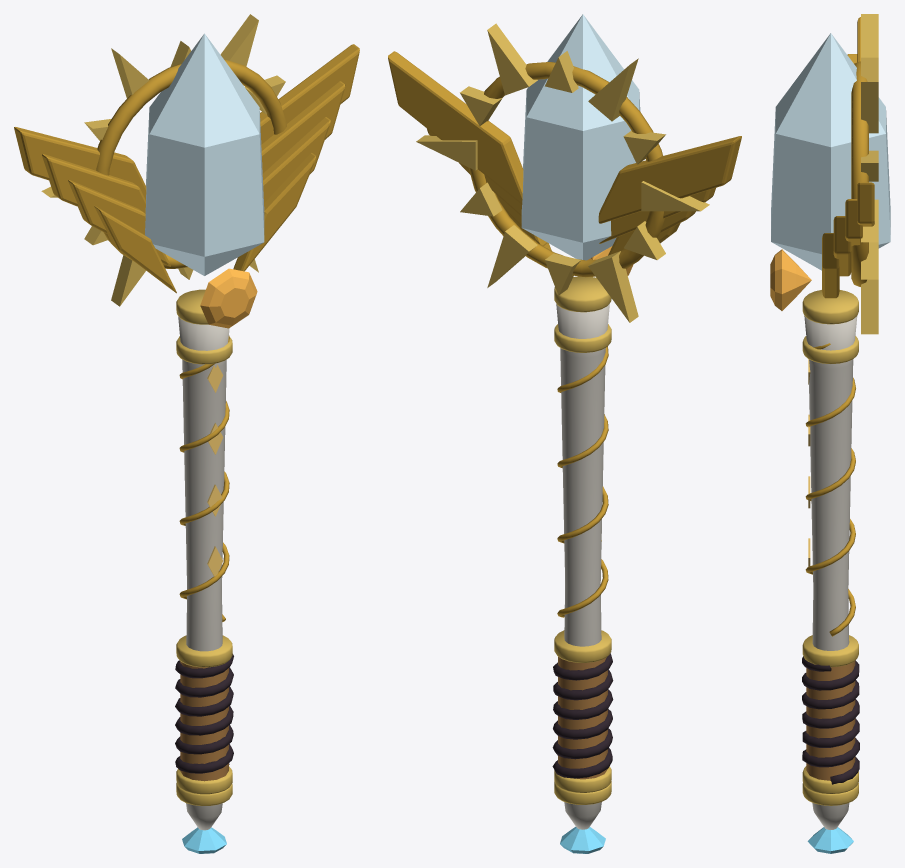
The model's file is mace_dawn.fbx.
3 views of the same model, side by side, from view 1: azimuth 30°, elevation 25°; view 2: azimuth 150°, elevation 25°; view 3: azimuth 270°, elevation 25° (orthographic). The views are drawn at different scales.
Parts seen in each view (by area): view 1: mace_dawn; view 2: mace_dawn; view 3: mace_dawn.
Part boxes in pixels (box(x1,y1,x2,y2)): mace_dawn: box(14, 14, 359, 853); mace_dawn: box(388, 14, 741, 853); mace_dawn: box(770, 14, 890, 853).
Bounding box in the file's own units: 0.4026 × 0.9236 × 0.1237.
